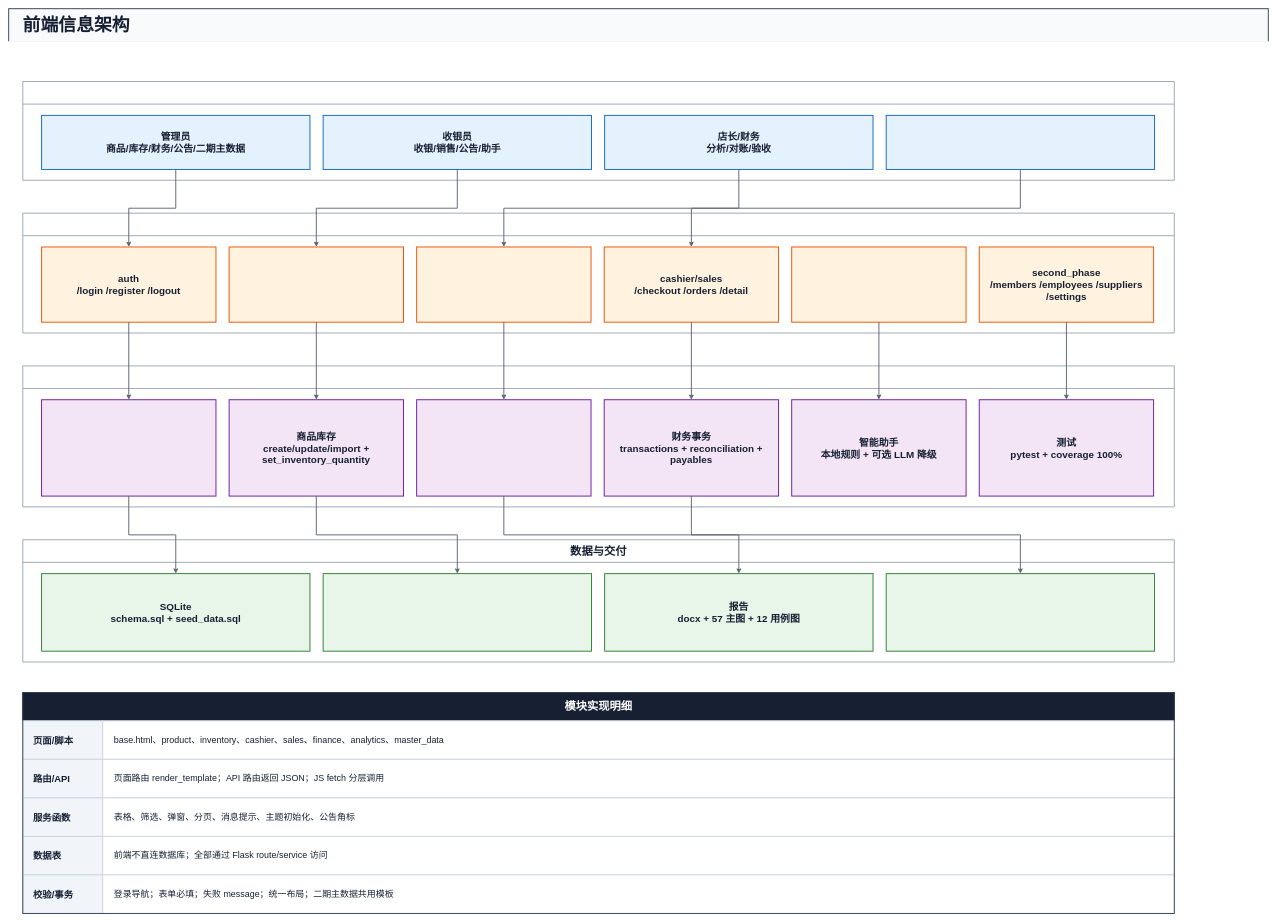
Image size: 1277x922. Some labels were removed from this diagram. The box of each missing label's shape, as (x1, y1, x2, y2) in pixels:
18 张表 业务表、审计表、二期主数据: (322, 573, 592, 651)
finance /overview /reconciliation /payables: (791, 246, 966, 322)
Flask 路由层: (22, 212, 1175, 333)
inventory /summary /list /logs /alerts: (416, 246, 591, 322)
product /api/products /import /categories: (228, 246, 404, 322)
可编辑图 中文 .drawio + PNG: (885, 573, 1155, 651)
收银事务 sales + sale_items + inventory_logs: (416, 399, 591, 496)
服务与业务规则: (22, 365, 1175, 507)
权限 login_required/admin_required: (41, 399, 216, 496)
架构图｜分层、模块、接口、数据表、权限边界: (8, 41, 1269, 61)
浏览器 Jinja2 页面 + JS fetch: (885, 115, 1155, 170)
用户与终端: (22, 81, 1175, 180)
